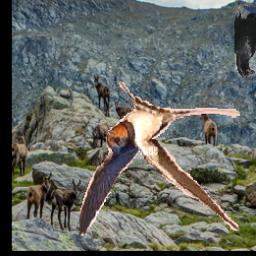Crow: (233, 0, 256, 77)
Swallow: (79, 81, 240, 237)
